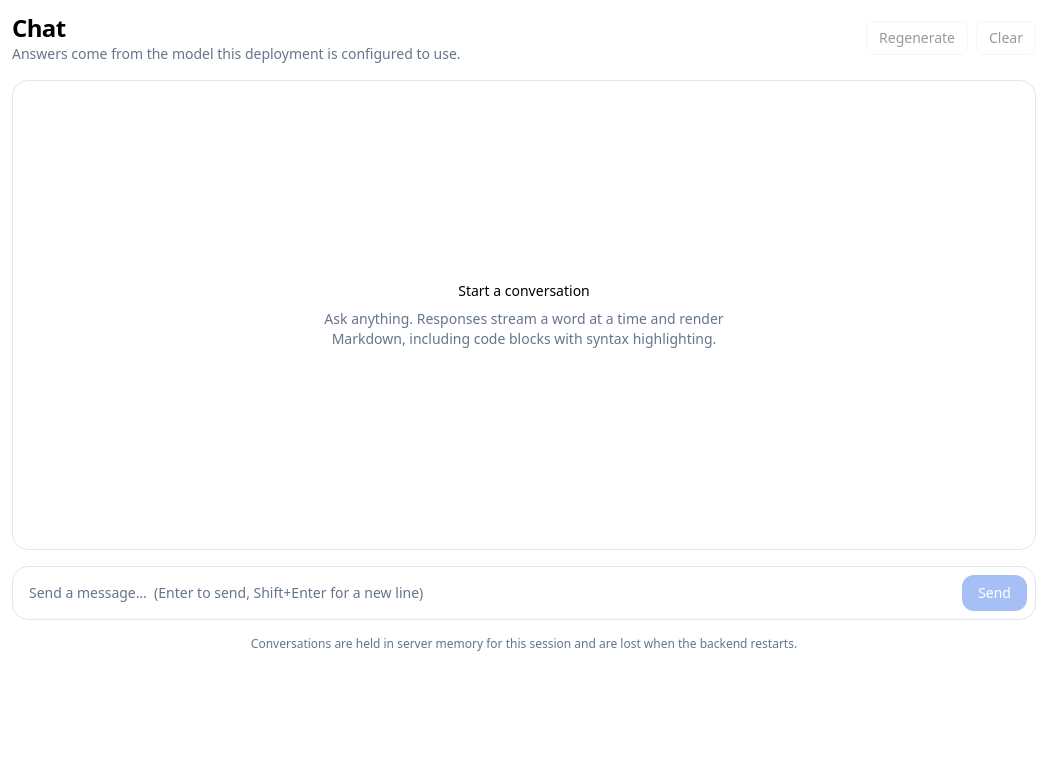
Test: ChatPage › renders the message the user sent
Type "What is this?" into the text box labelled "message" at (488, 593), box [21, 575, 954, 611]
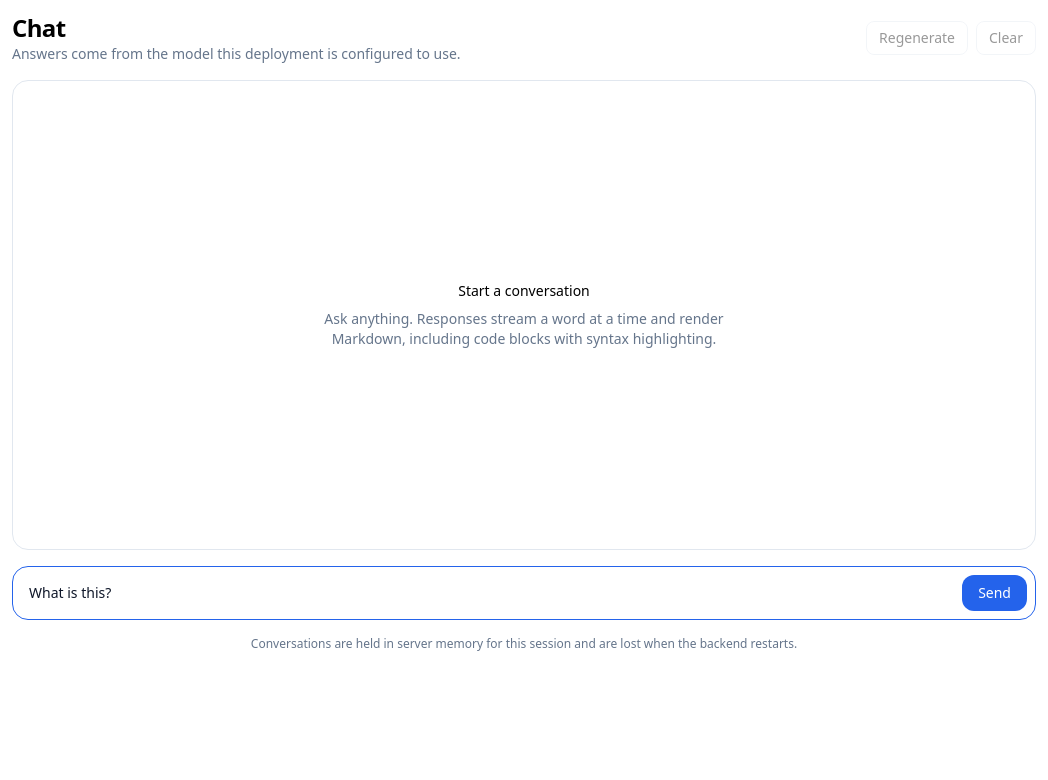
Click the button "Send" at (995, 593), box [962, 575, 1027, 611]
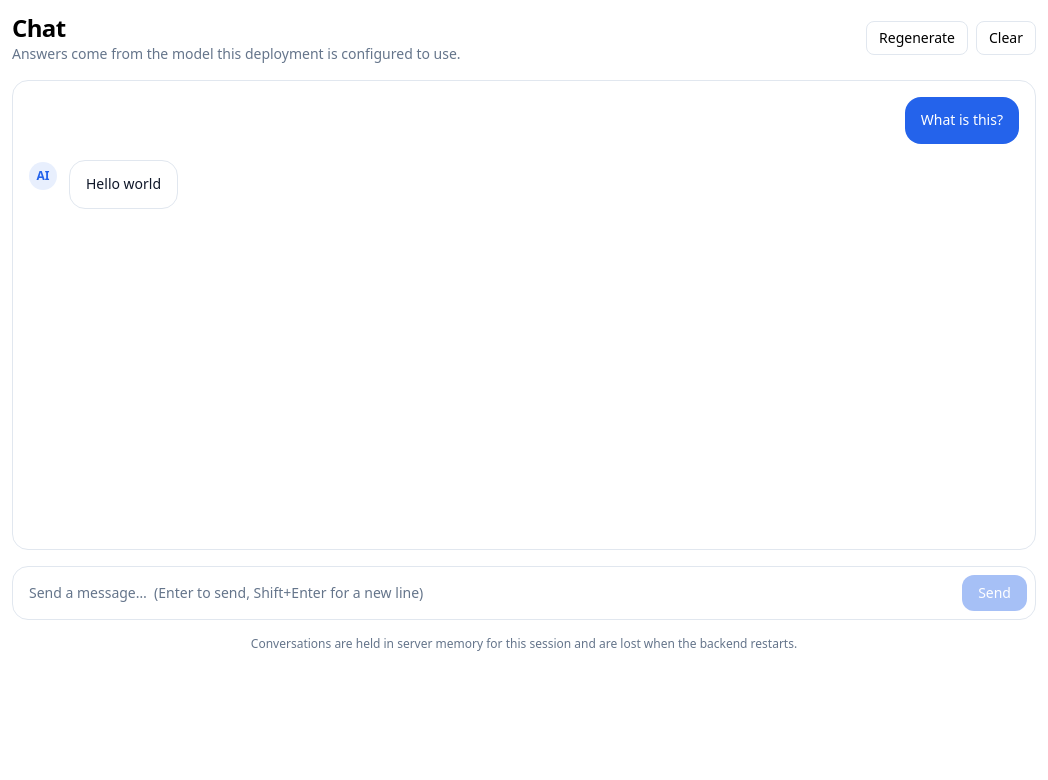
Expected: the text "What is this?" is shown, [921, 109, 1003, 132]
